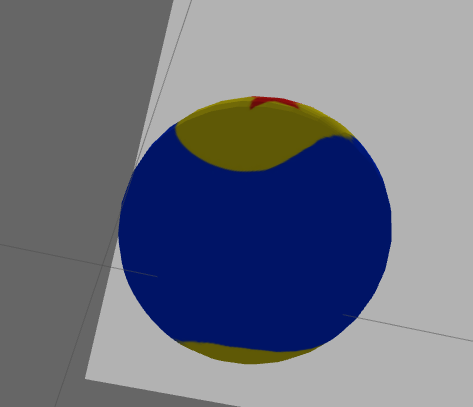toy story ball: (120, 96, 392, 363)
